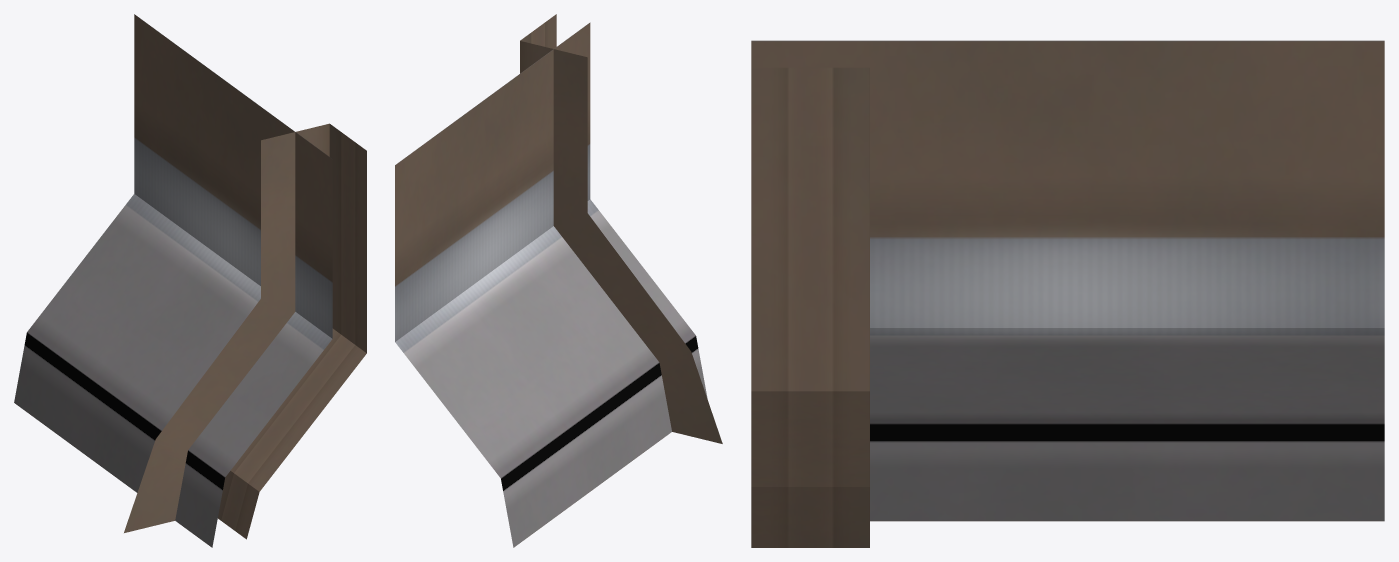
The model's file is model_tng_corridor_angled_alt_top_left.obj.
The picture shows the model from 3 angles, left to right: view 1: azimuth 30°, elevation 25°; view 2: azimuth 150°, elevation 25°; view 3: azimuth 270°, elevation 25°; orthographic projection. The views are drawn at different scales.
Visible parts, largest first — view 1: corridor_top_left; view 2: corridor_top_left; view 3: corridor_top_left.
Boxes of the visible parts, x1,y1,x2,y2 form: corridor_top_left: (14, 14, 366, 547); corridor_top_left: (395, 14, 722, 547); corridor_top_left: (751, 40, 1384, 547).
Size of the model in its own units: 0.6 by 1 by 1.
